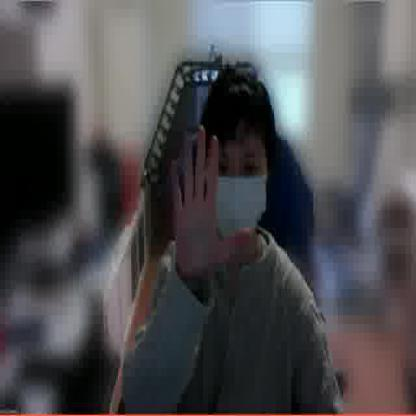five: (169, 121, 250, 286)
